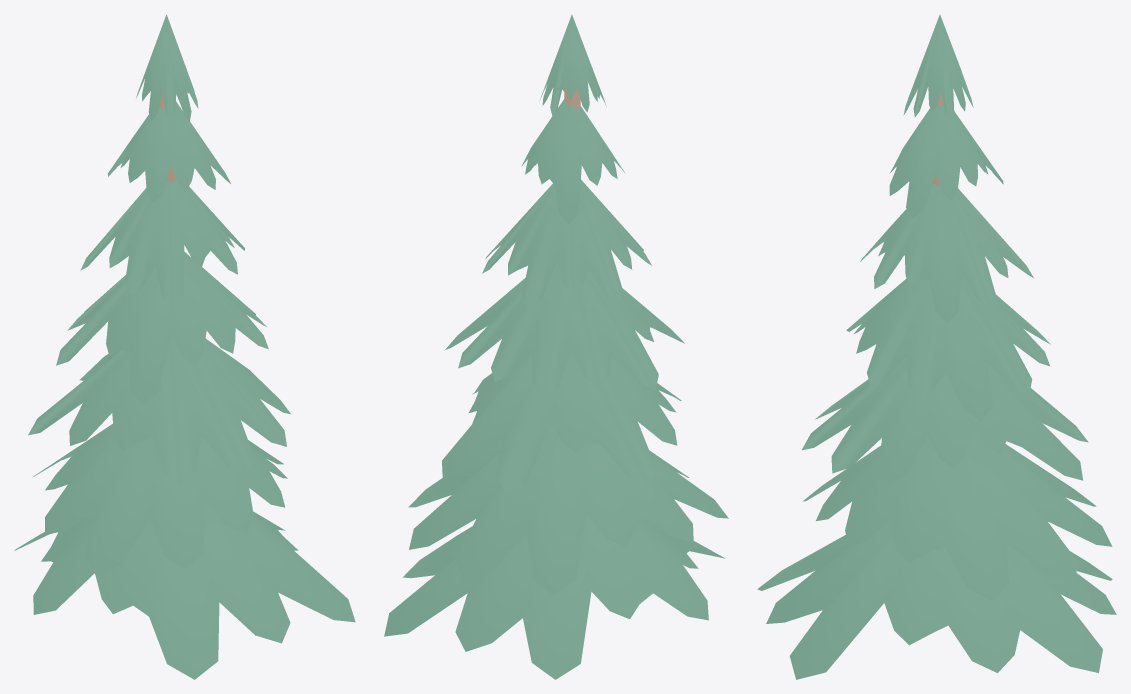
Rendered from Blender_Cedar_2.glb.
3 renders of one model, left to right at view 1: azimuth 30°, elevation 25°; view 2: azimuth 150°, elevation 25°; view 3: azimuth 270°, elevation 25°, orthographic. The views are drawn at different scales.
Parts seen in each view (by area): view 1: Blender_Cedar_2; view 2: Blender_Cedar_2; view 3: Blender_Cedar_2.
Part boxes in pixels (x1,y1,x2,y2): Blender_Cedar_2: (14,14,355,679); Blender_Cedar_2: (384,14,728,679); Blender_Cedar_2: (757,14,1116,679).
Size of the model in its own units: 10.42 by 21.35 by 11.49.
